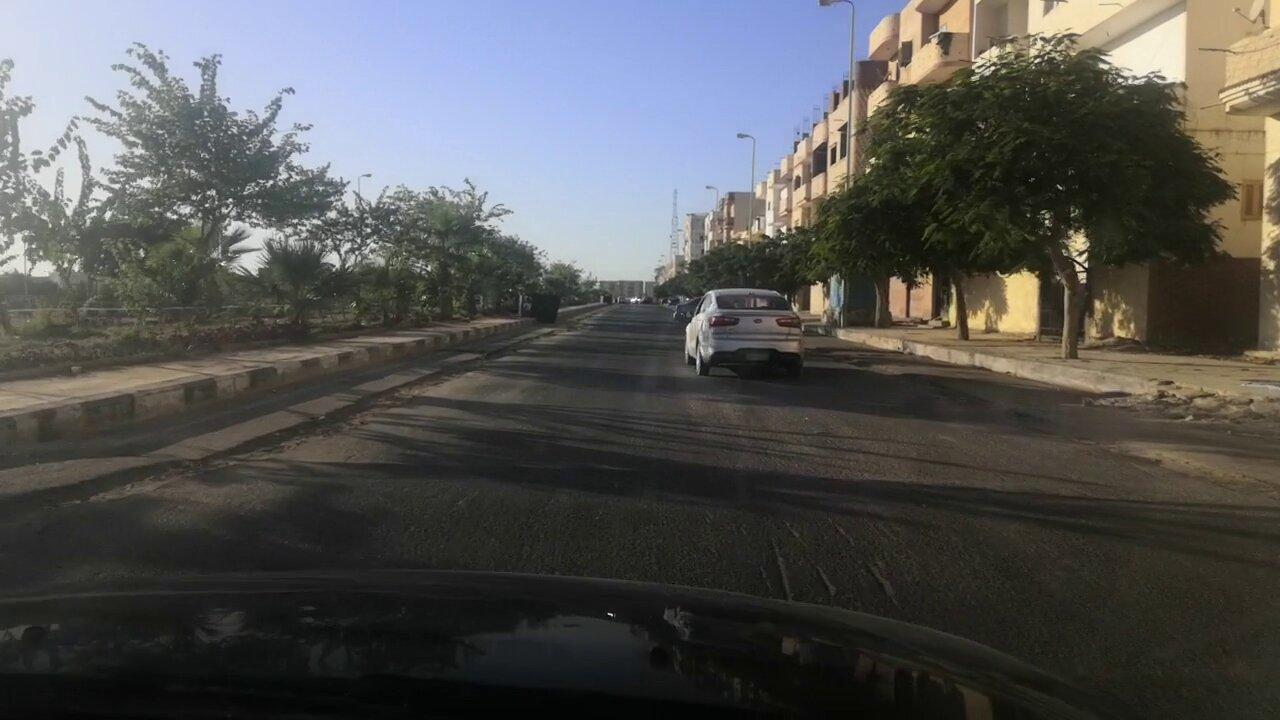Bump: (13, 449, 1279, 658)
Pothole: (0, 325, 560, 552)
